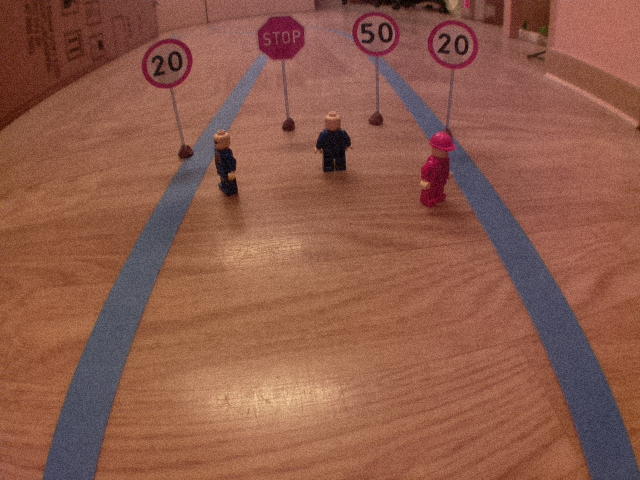LEGO_person: (417, 129, 458, 215), (314, 109, 356, 177), (210, 127, 248, 197)
ogr_20: (139, 36, 196, 91), (425, 18, 482, 70)
ogr_50: (350, 9, 403, 58)
stop: (254, 12, 310, 64)
